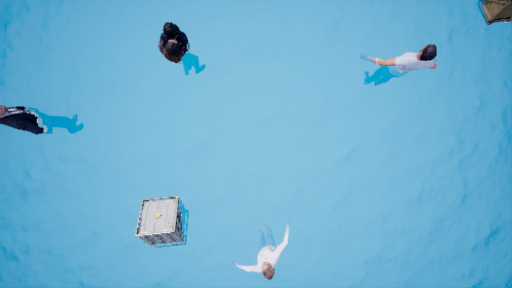person: (356, 45, 436, 93), (4, 102, 83, 148), (235, 217, 300, 272), (158, 25, 209, 78)
